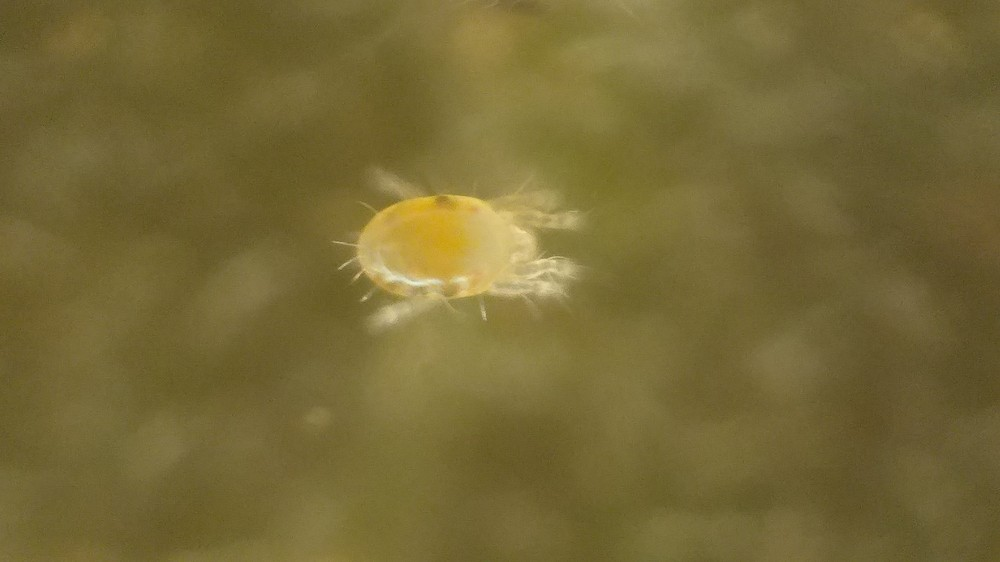Aracnido Rojo: (328, 156, 615, 341)
